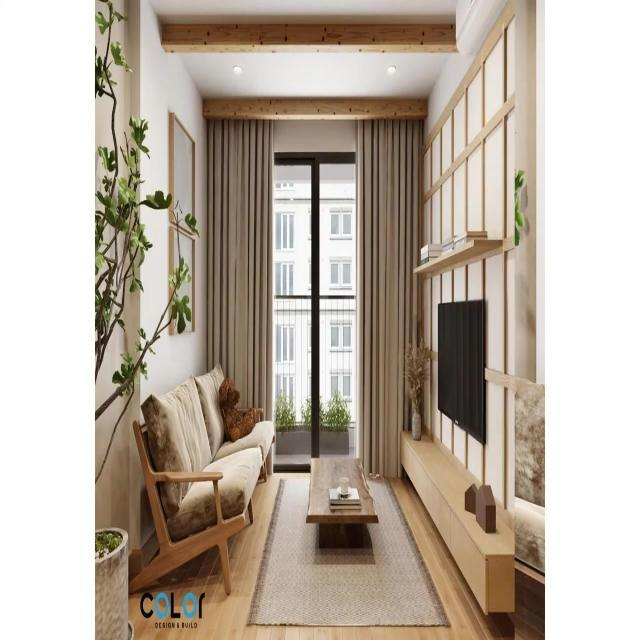door: (272, 151, 356, 468)
obstacle: (128, 362, 276, 596), (306, 456, 378, 548)
